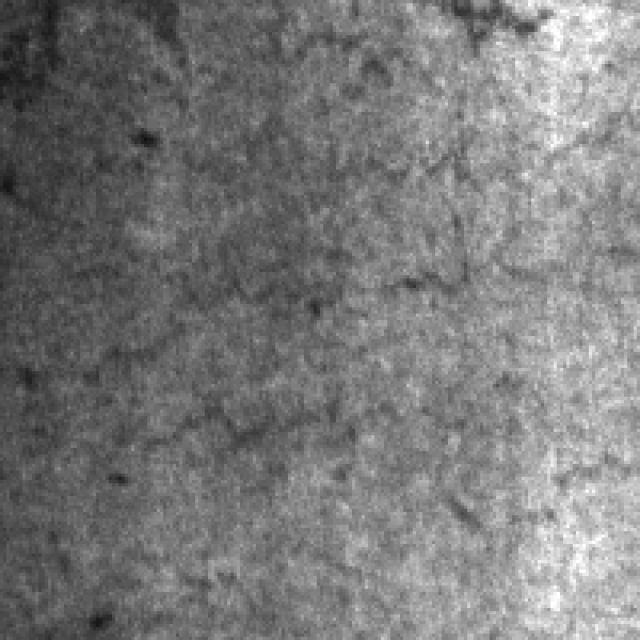crazing: (29, 234, 630, 528), (170, 26, 620, 182)
